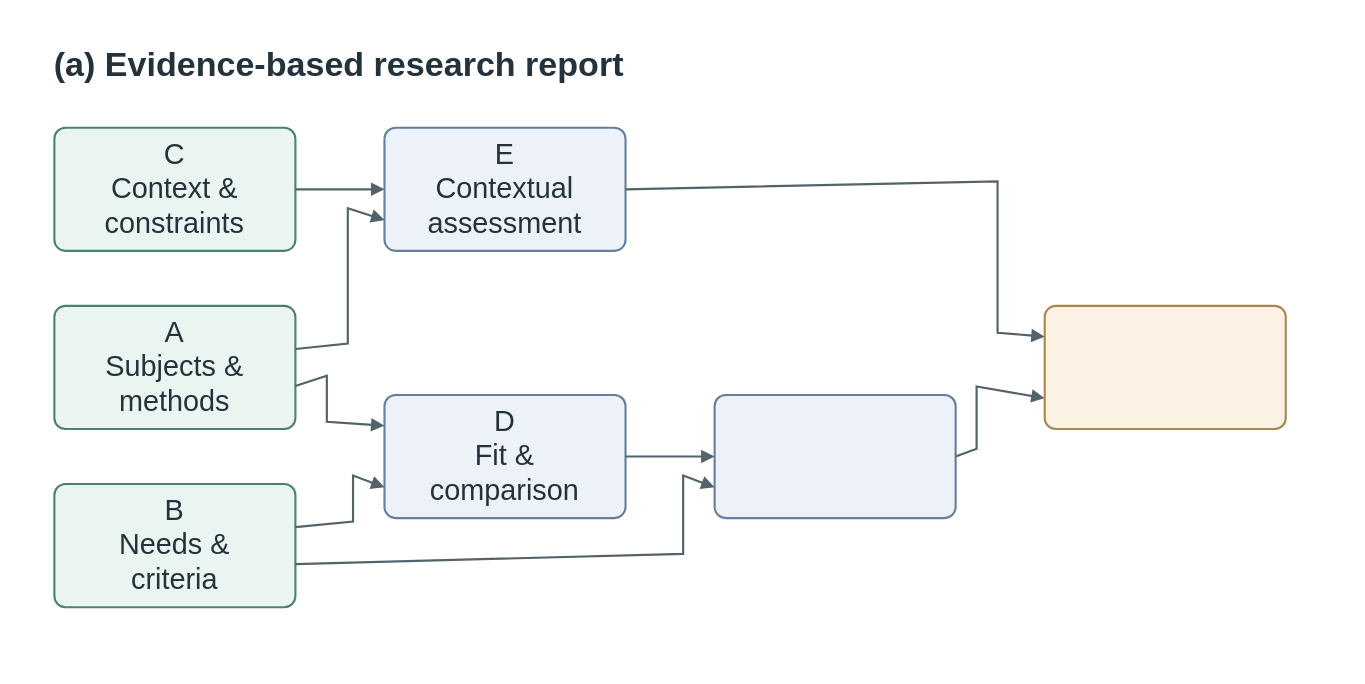
The diagram is 1365 pixels wide and 684 high, and some of its shapes have lost their labels. The box of each missing label's shape, as (x1, y1, x2, y2) in pixels:
F Gaps & implications: (713, 393, 956, 518)
G Report synthesis: (1043, 304, 1286, 429)
